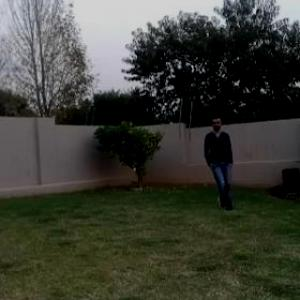follow: (204, 115, 236, 214)
